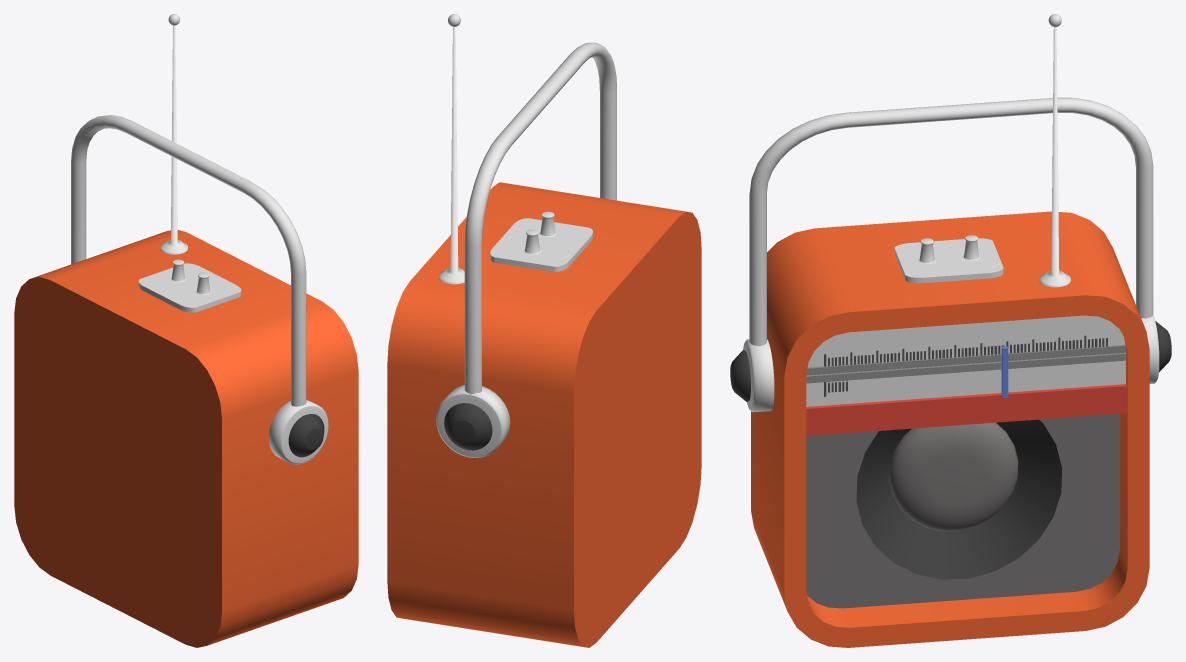
File: radio.gltf
3 renders of one model, left to right at view 1: azimuth 30°, elevation 25°; view 2: azimuth 150°, elevation 25°; view 3: azimuth 270°, elevation 25°, orthographic. The views are drawn at different scales.
Visible parts, largest first — view 1: Cube.011, Plane, Cylinder.001, Cube.012, Circle.001, Circle; view 2: Cube.011, Plane, Cylinder.001, Cube.012, Circle.001, Circle; view 3: Cube.011, Plane.002, Plane, Cube.013, Cube.014, Cube.015, Cylinder.001, Cube.012, Circle.001, Cube.019, Circle.
Boxes of the visible parts, x1,y1,x2,y2 form: Cube.011: [14, 230, 358, 647]; Plane: [71, 115, 306, 406]; Cylinder.001: [268, 399, 328, 464]; Cube.012: [138, 263, 241, 312]; Circle.001: [160, 14, 187, 254]; Circle: [170, 259, 211, 294]; Cube.011: [387, 182, 701, 647]; Plane: [464, 42, 616, 394]; Cylinder.001: [436, 385, 510, 457]; Cube.012: [490, 218, 592, 271]; Circle.001: [439, 14, 464, 284]; Circle: [523, 211, 556, 254]; Cube.011: [751, 211, 1149, 647]; Plane.002: [806, 315, 1125, 406]; Plane: [749, 97, 1153, 345]; Cube.013: [889, 422, 1018, 531]; Cube.014: [806, 384, 1126, 435]; Cube.015: [806, 345, 1126, 383]; Cylinder.001: [730, 315, 1171, 412]; Cube.012: [894, 238, 1003, 283]; Circle.001: [1039, 14, 1070, 287]; Cube.019: [824, 335, 1107, 366]; Circle: [918, 235, 980, 263].
Bounding box in the file's own units: 0.5197 × 1.33 × 0.8815.
